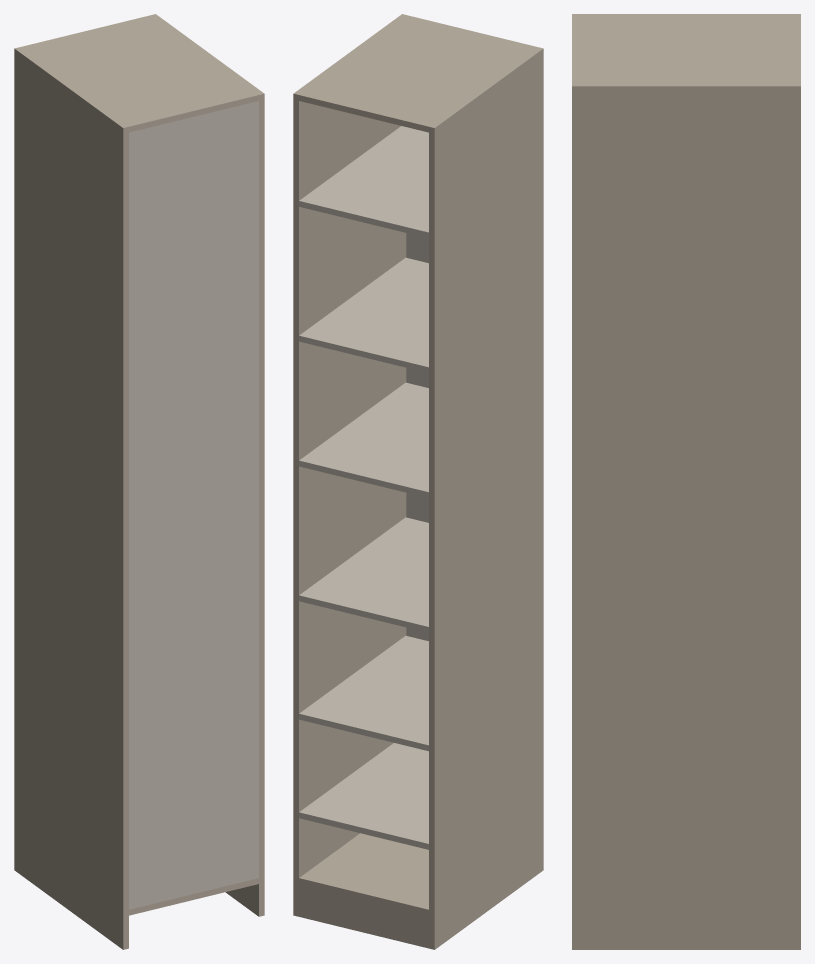
3 views of the same model, side by side, from view 1: azimuth 30°, elevation 25°; view 2: azimuth 150°, elevation 25°; view 3: azimuth 270°, elevation 25° (orthographic). The views are drawn at different scales.
Visible parts, largest first — view 1: 004_ARKALIK, 000_GOVDE_SOL, 002_GOVDE_UST, 001_GOVDE_SAG, 003_GOVDE_ALT; view 2: 000_GOVDE_SOL, 001_GOVDE_SAG, 002_GOVDE_UST, 007_RAF_2, 010_RAF_5, 008_RAF_3, 009_RAF_4, 011_RAF_6, 006_RAF_1, 003_GOVDE_ALT, 005_BAZA, 004_ARKALIK; view 3: 001_GOVDE_SAG, 002_GOVDE_UST, 000_GOVDE_SOL.
Boxes of the visible parts, x1,y1,x2,y2 form: 004_ARKALIK: (129, 101, 258, 909); 000_GOVDE_SOL: (14, 47, 128, 949); 002_GOVDE_UST: (20, 15, 258, 132); 001_GOVDE_SAG: (150, 14, 264, 916); 003_GOVDE_ALT: (129, 878, 258, 915); 000_GOVDE_SOL: (429, 47, 543, 949); 001_GOVDE_SAG: (293, 14, 407, 916); 002_GOVDE_UST: (299, 15, 537, 132); 007_RAF_2: (299, 635, 428, 751); 010_RAF_5: (299, 257, 428, 373); 008_RAF_3: (299, 517, 428, 632); 009_RAF_4: (299, 382, 428, 497); 011_RAF_6: (299, 126, 428, 238); 006_RAF_1: (299, 743, 428, 849); 003_GOVDE_ALT: (299, 833, 428, 915); 005_BAZA: (299, 884, 428, 948); 004_ARKALIK: (406, 233, 428, 641); 001_GOVDE_SAG: (572, 83, 800, 949); 002_GOVDE_UST: (572, 17, 800, 83); 000_GOVDE_SOL: (572, 14, 800, 16).
Bounding box in the file's own units: 0.45 × 2.5 × 0.6.
